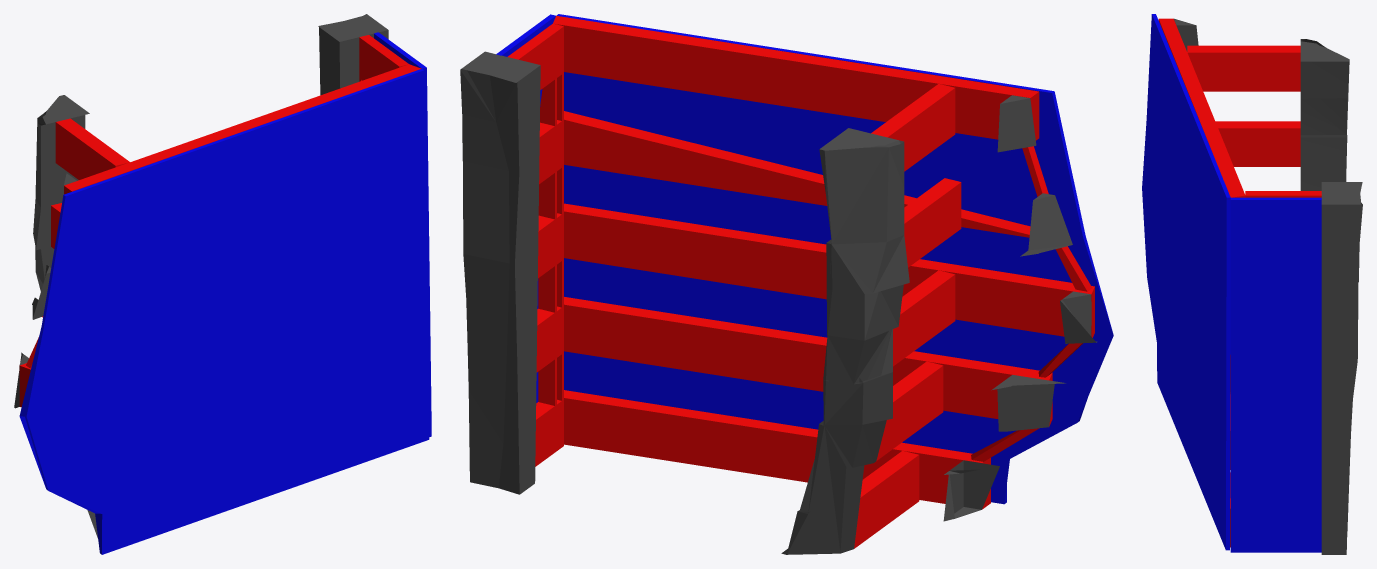
Rendered from result.gltf.
3 views of the same model, side by side, from view 1: azimuth 30°, elevation 25°; view 2: azimuth 150°, elevation 25°; view 3: azimuth 270°, elevation 25° (orthographic). The views are drawn at different scales.
Visible parts, largest first — view 1: nodes[1], nodes[15], nodes[38], nodes[29], nodes[16], nodes[0], nodes[30]; view 2: nodes[1], nodes[29], nodes[15], nodes[38], nodes[36], nodes[37], nodes[39], nodes[35], nodes[19], nodes[16], nodes[18], nodes[14] (+16 smaller); view 3: nodes[0], nodes[1], nodes[29], nodes[15], nodes[16], nodes[17], nodes[38], nodes[30], nodes[21].
Part boxes in pixels (x1,y1,x2,y2): nodes[1]: [19, 69, 429, 554]; nodes[15]: [33, 95, 89, 291]; nodes[38]: [64, 64, 421, 194]; nodes[29]: [318, 14, 388, 95]; nodes[16]: [55, 118, 129, 179]; nodes[0]: [374, 32, 431, 436]; nodes[30]: [359, 35, 408, 80]; nodes[1]: [556, 14, 1113, 504]; nodes[29]: [460, 51, 540, 494]; nodes[15]: [781, 128, 909, 554]; nodes[38]: [553, 15, 1039, 140]; nodes[36]: [564, 203, 1094, 337]; nodes[37]: [564, 297, 1052, 425]; nodes[39]: [564, 390, 990, 509]; nodes[35]: [564, 111, 1030, 237]; nodes[19]: [854, 450, 919, 548]; nodes[16]: [871, 84, 955, 171]; nodes[18]: [893, 270, 955, 366]; nodes[14]: [876, 361, 943, 460]; nodes[0]: [1230, 197, 1321, 552]; nodes[1]: [1142, 14, 1230, 550]; nodes[29]: [1321, 182, 1362, 554]; nodes[15]: [1300, 39, 1349, 190]; nodes[16]: [1187, 45, 1300, 91]; nodes[17]: [1215, 121, 1300, 166]; nodes[38]: [1158, 18, 1245, 197]; nodes[30]: [1245, 191, 1321, 197]; nodes[21]: [1174, 18, 1198, 51].
Size of what is drawn, in the model's own units: 6016 by 4608 by 2634.
